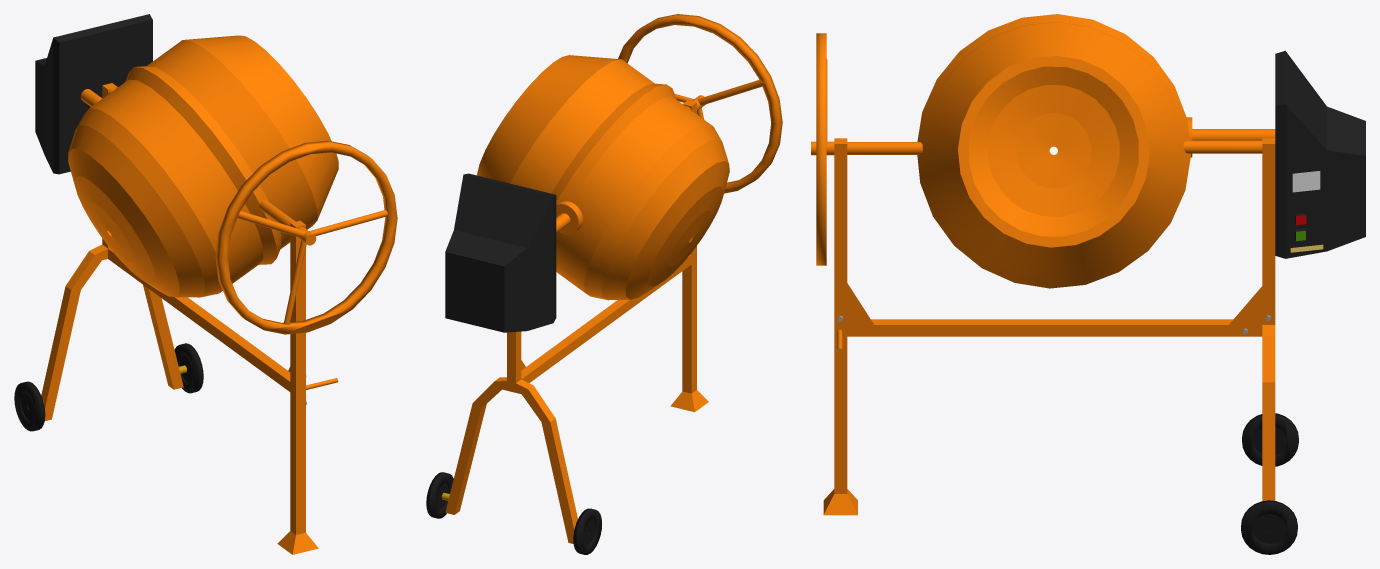
The model's file is betonniere.glb.
3 renders of one model, left to right at view 1: azimuth 30°, elevation 25°; view 2: azimuth 150°, elevation 25°; view 3: azimuth 270°, elevation 25°, orthographic. The views are drawn at different scales.
Bounding box in the file's own units: 1.15 × 2.08 × 2.14.
